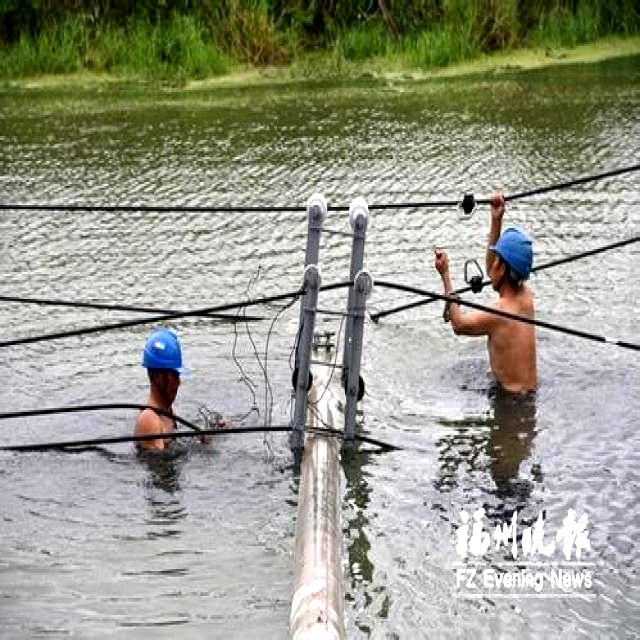hard_hat: (486, 217, 531, 312), (142, 328, 183, 416)
person: (444, 195, 536, 414), (135, 330, 209, 448)
